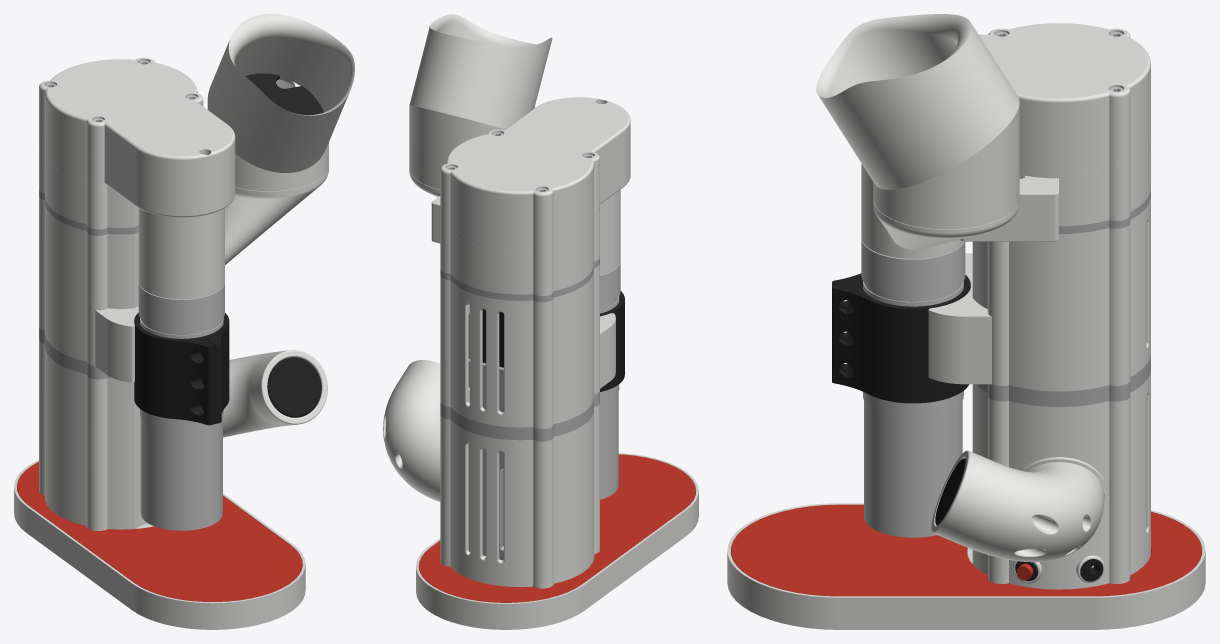
Rendered from wide.glb.
The picture shows the model from 3 angles, left to right: view 1: azimuth 30°, elevation 25°; view 2: azimuth 150°, elevation 25°; view 3: azimuth 270°, elevation 25°; orthographic projection. The views are drawn at different scales.
Parts seen in each view (by area): view 1: lid, bot, cap, silicone_mat, Body1.097, mid, Body3.074, base_bottom, right, bottom.002, Body5.002, attatch (+7 smaller); view 2: bot, mid, lid, cap, silicone_mat, base_bottom, bottom.002, Body5.002, collar, top.001, poggo_connect, Body1.097 (+8 smaller); view 3: mid, cap, silicone_mat, bot, base_bottom, Body1.097, Body5.002, lid, right, top.001, poggo_connect, bottom.002 (+7 smaller).
Boxes of the visible parts, x1,y1,x2,y2 form: lid: (39,57,235,176); bot: (39,340,153,530); cap: (208,14,354,170); silicone_mat: (17,462,302,601); Body1.097: (138,282,224,530); mid: (39,197,138,382); Body3.074: (138,167,328,299); base_bottom: (14,460,305,629); right: (134,313,229,425); bottom.002: (39,104,235,217); Body5.002: (223,350,327,437); attatch: (95,306,138,382); bot: (440,404,599,588); mid: (440,264,614,428); lid: (440,97,630,212); cap: (410,14,552,126); silicone_mat: (419,454,695,602); base_bottom: (416,453,698,629); bottom.002: (440,140,630,253); Body5.002: (383,360,440,501); collar: (440,215,599,295); top.001: (409,102,508,189); poggo_connect: (431,196,598,295); Body1.097: (600,262,620,499); mid: (935,197,1150,391); cap: (816,14,1017,185); silicone_mat: (731,504,1201,596); bot: (967,370,1150,589); base_bottom: (727,503,1205,629); Body1.097: (861,237,965,537); Body5.002: (931,450,1103,562); lid: (979,23,1150,123); right: (832,273,970,403); top.001: (873,94,1019,229); poggo_connect: (960,136,1150,241); bottom.002: (1019,86,1150,173).
Size of the model in its own units: 0.1935 by 0.391 by 0.2758.
